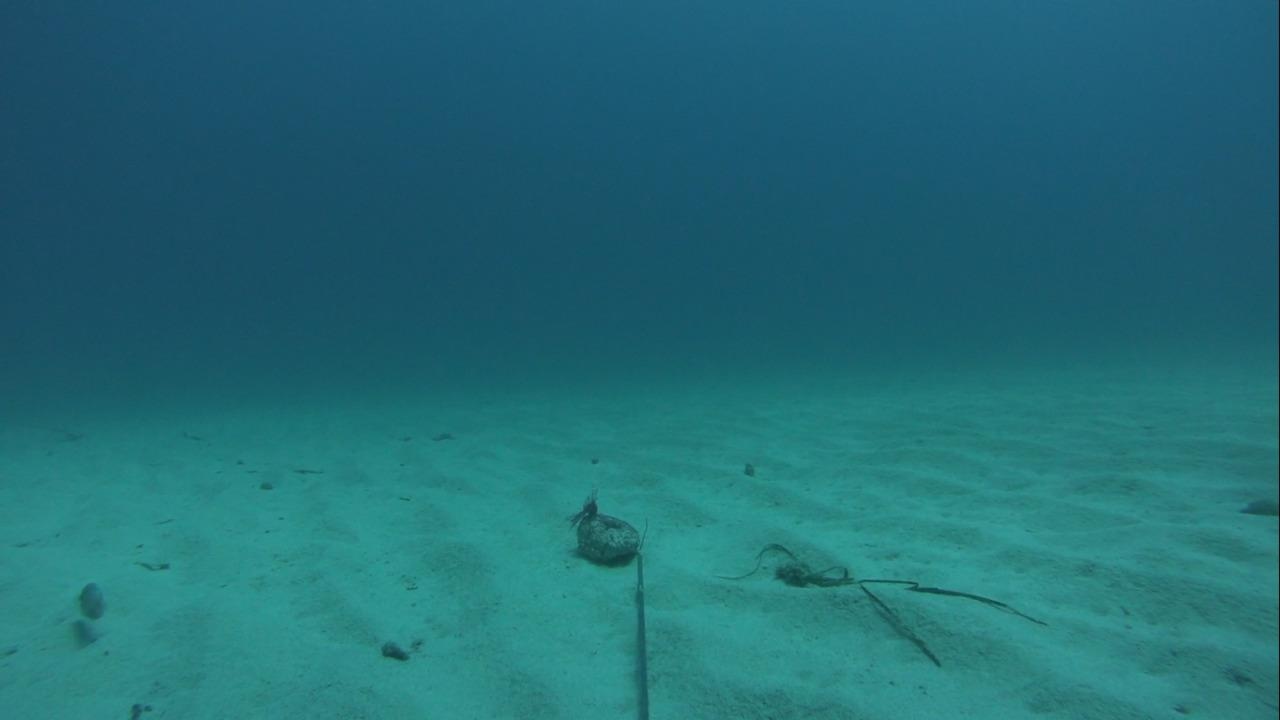raor: (60, 575, 110, 619)
